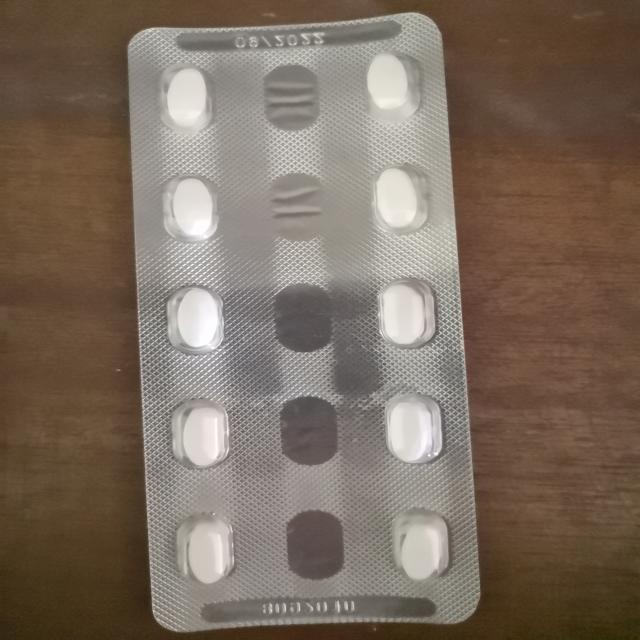Pill: (372, 385, 453, 471), (152, 281, 236, 361), (161, 393, 242, 472), (376, 507, 455, 587), (167, 509, 245, 588), (158, 168, 232, 250), (365, 161, 434, 242), (354, 46, 425, 122), (372, 276, 432, 358), (158, 61, 218, 134)
